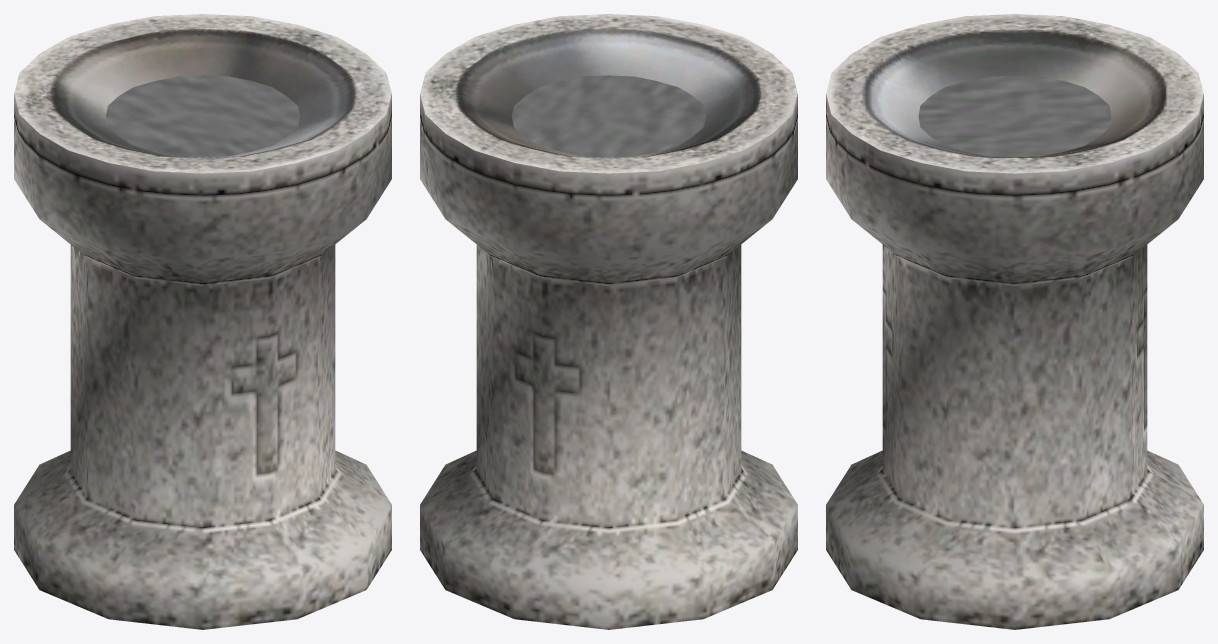
The model's file is holywater.fbx.
3 views of the same model, side by side, from view 1: azimuth 30°, elevation 25°; view 2: azimuth 150°, elevation 25°; view 3: azimuth 270°, elevation 25° (orthographic).
Parts seen in each view (by area): view 1: mesh_0, mesh_1; view 2: mesh_0, mesh_1; view 3: mesh_0, mesh_1.
Boxes of the visible parts, bbox=[...] form: mesh_0: bbox=[14, 14, 391, 629]; mesh_1: bbox=[105, 75, 300, 157]; mesh_0: bbox=[420, 14, 797, 629]; mesh_1: bbox=[512, 75, 705, 157]; mesh_0: bbox=[826, 14, 1203, 629]; mesh_1: bbox=[918, 75, 1111, 157].
Size of the model in its own units: 60 by 80 by 60.
2 materials, 2 textured.
